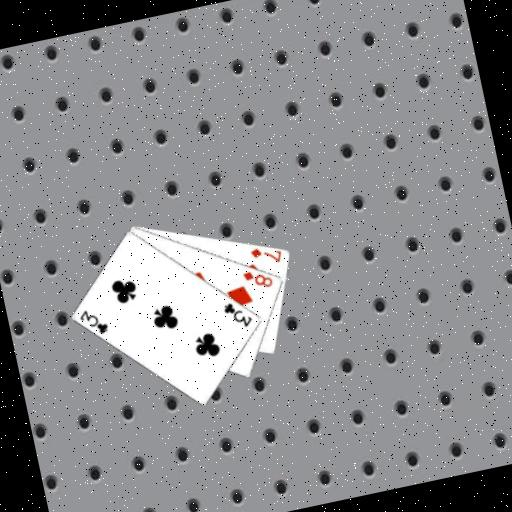3C: (219, 295, 255, 332), (75, 302, 111, 339)
7D: (246, 239, 284, 269)
8D: (239, 263, 275, 293)
